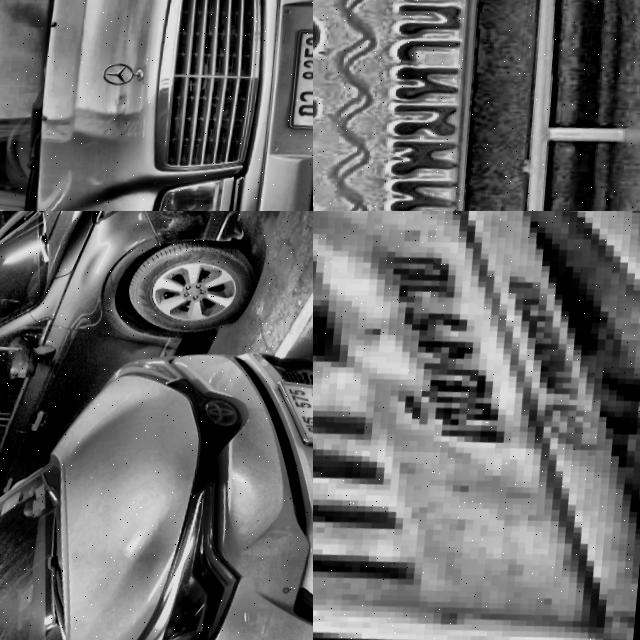license-plate: (313, 211, 640, 640), (313, 0, 572, 211), (267, 377, 313, 458), (282, 31, 313, 145)
